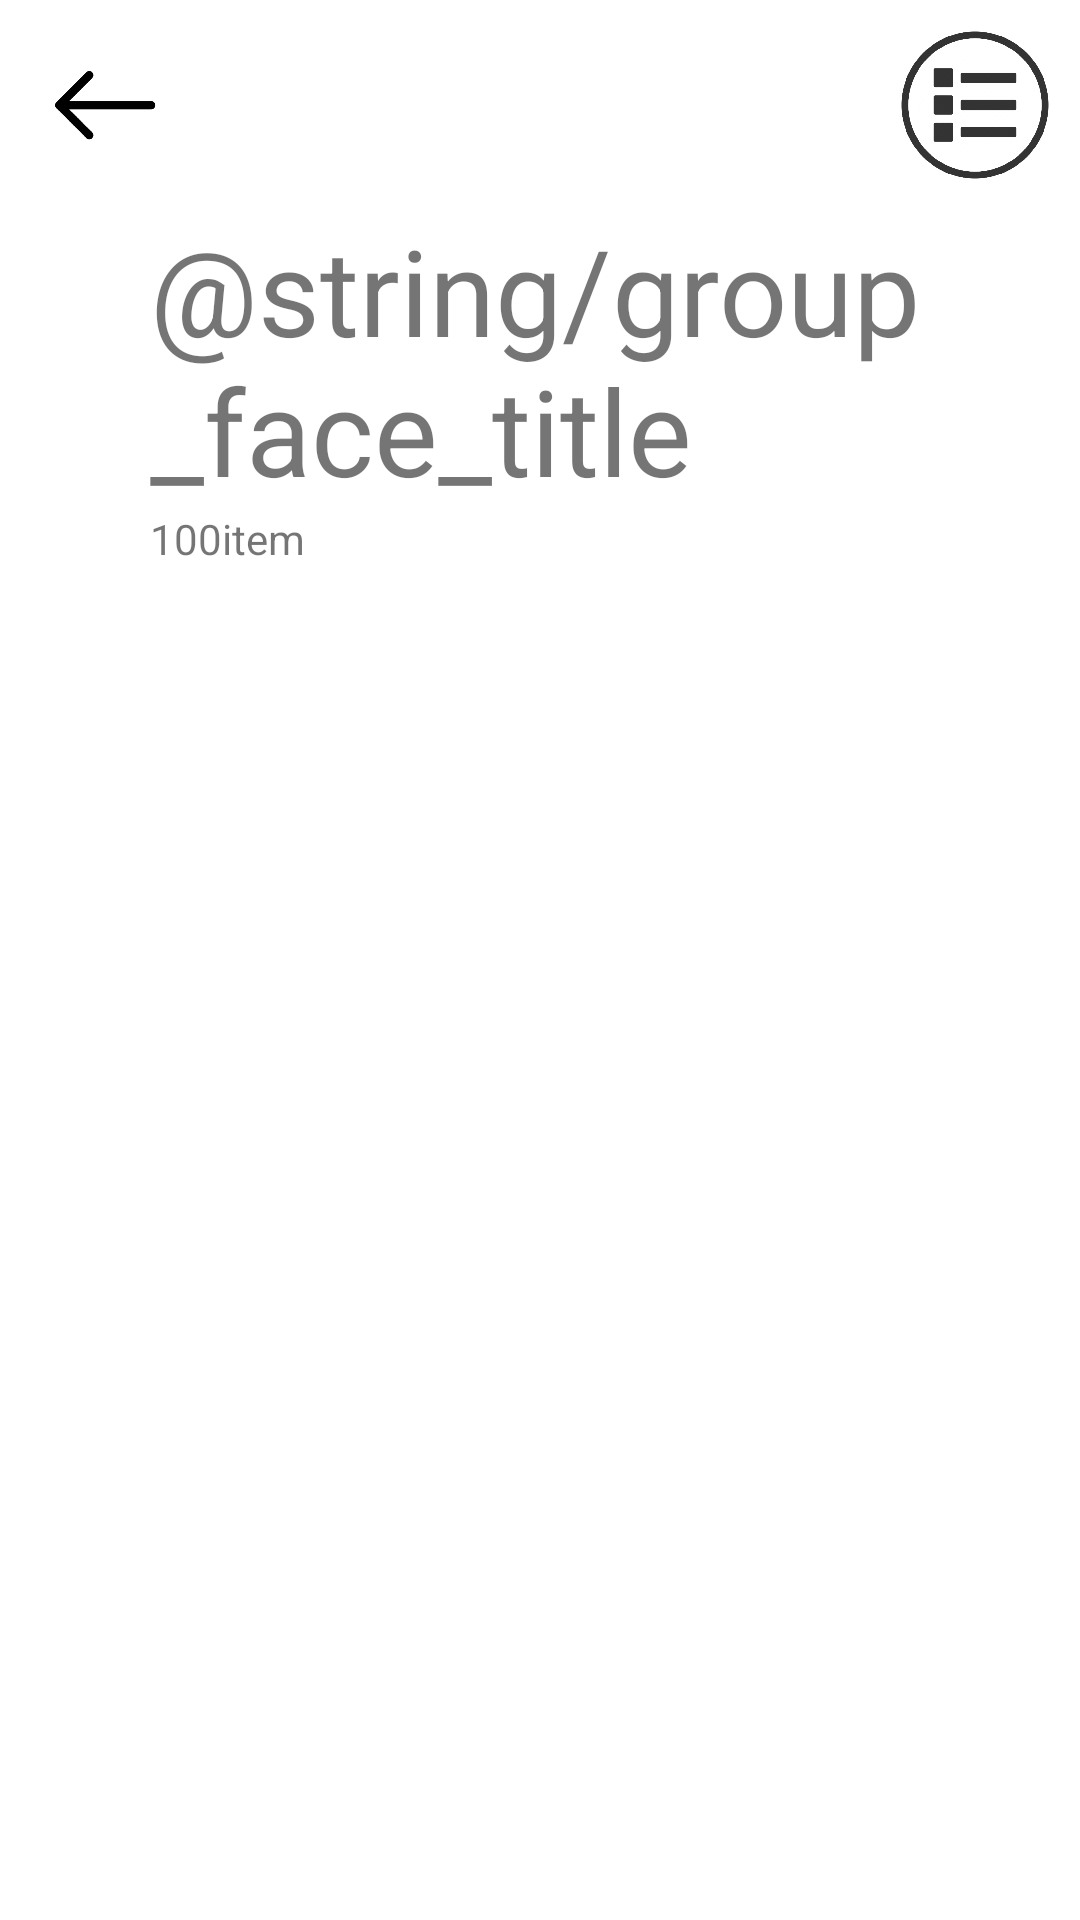

Named icons in this screenshot (1080px x 1920px) and their centers, (x,y):
back: (105,105)
option: (975,105)
